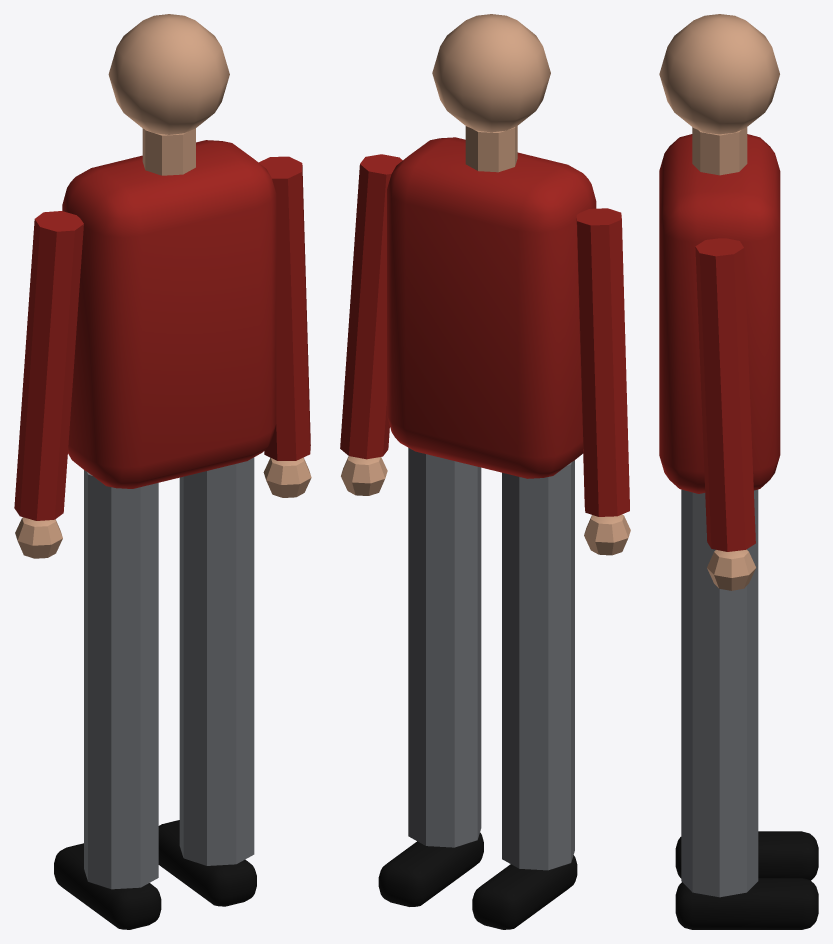
The model's file is people.public.woman.glb.
3 renders of one model, left to right at view 1: azimuth 30°, elevation 25°; view 2: azimuth 150°, elevation 25°; view 3: azimuth 270°, elevation 25°, orthographic. The views are drawn at different scales.
Visible parts, largest first — view 1: main__fabric_red, main__fabric_grey, main__skin, main__plastic_black; view 2: main__fabric_red, main__fabric_grey, main__skin, main__plastic_black; view 3: main__fabric_red, main__fabric_grey, main__skin, main__plastic_black.
Part boxes in pixels (x1,y1,x2,y2): main__fabric_red: (14, 140, 310, 520); main__fabric_grey: (84, 457, 254, 889); main__skin: (15, 14, 311, 558); main__plastic_black: (54, 820, 256, 929); main__fabric_red: (340, 137, 629, 516); main__fabric_grey: (408, 448, 574, 870); main__skin: (341, 14, 630, 555); main__plastic_black: (378, 832, 577, 929); main__fabric_red: (659, 134, 780, 551); main__fabric_grey: (681, 489, 758, 897); main__skin: (659, 14, 779, 590); main__plastic_black: (675, 831, 818, 929).
Size of the model in its own units: 0.5682 by 1.65 by 0.2701.
